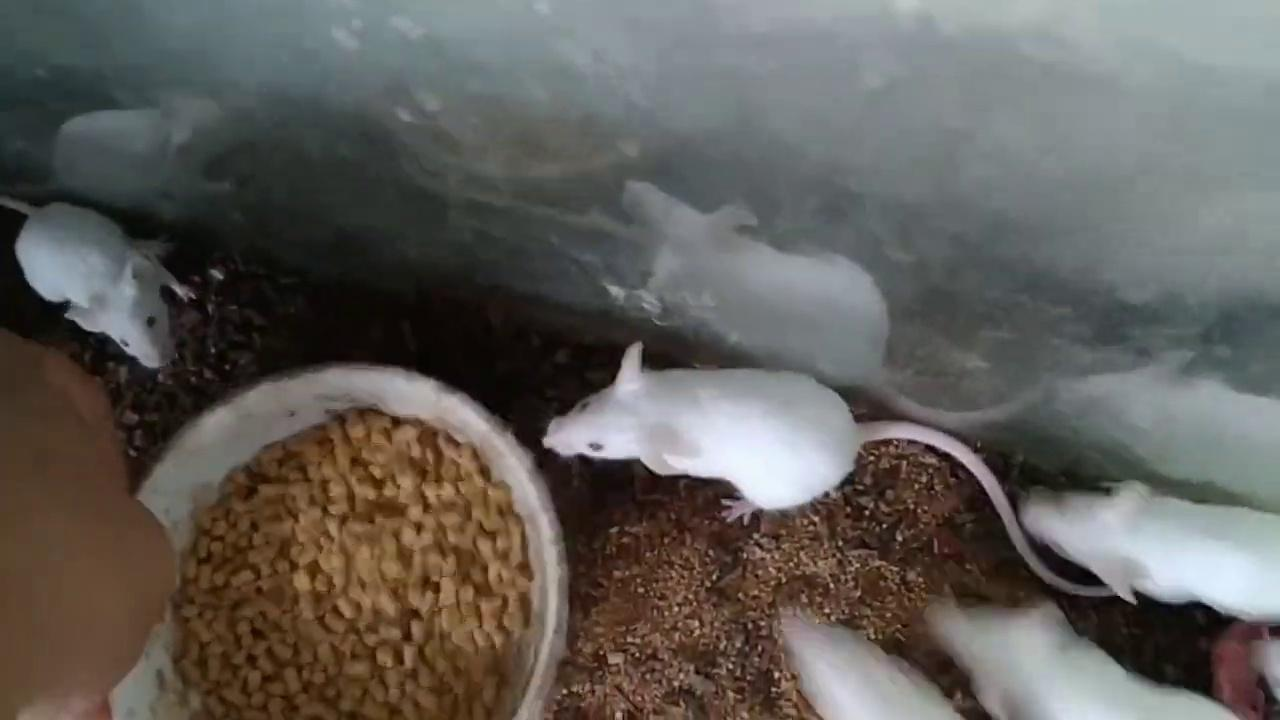rat: (544, 343, 1115, 597), (0, 198, 195, 369)
